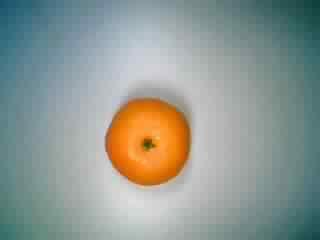orange: (100, 89, 195, 191)
